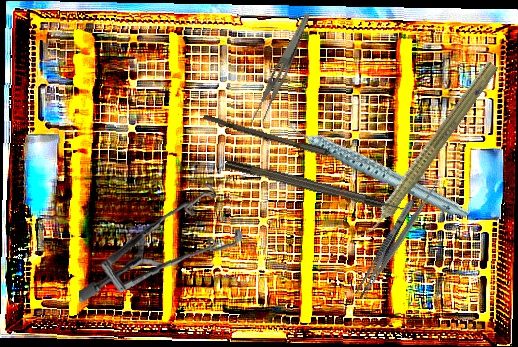Dressing Forceps: (247, 7, 312, 131), (353, 195, 418, 301)
Handpiece: (282, 82, 472, 253), (350, 55, 503, 250)
Hook Surgical: (224, 157, 415, 218)
Spatula Surgical: (356, 176, 446, 302)
Speculum: (78, 176, 246, 312)
Surgical Spoon: (201, 114, 374, 169)
